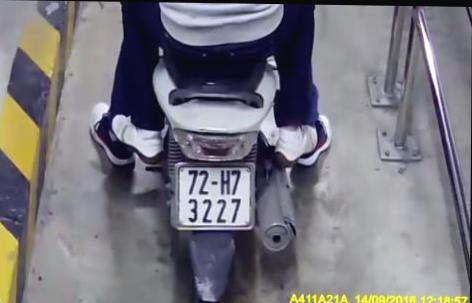License_Plate: (160, 156, 264, 236)
